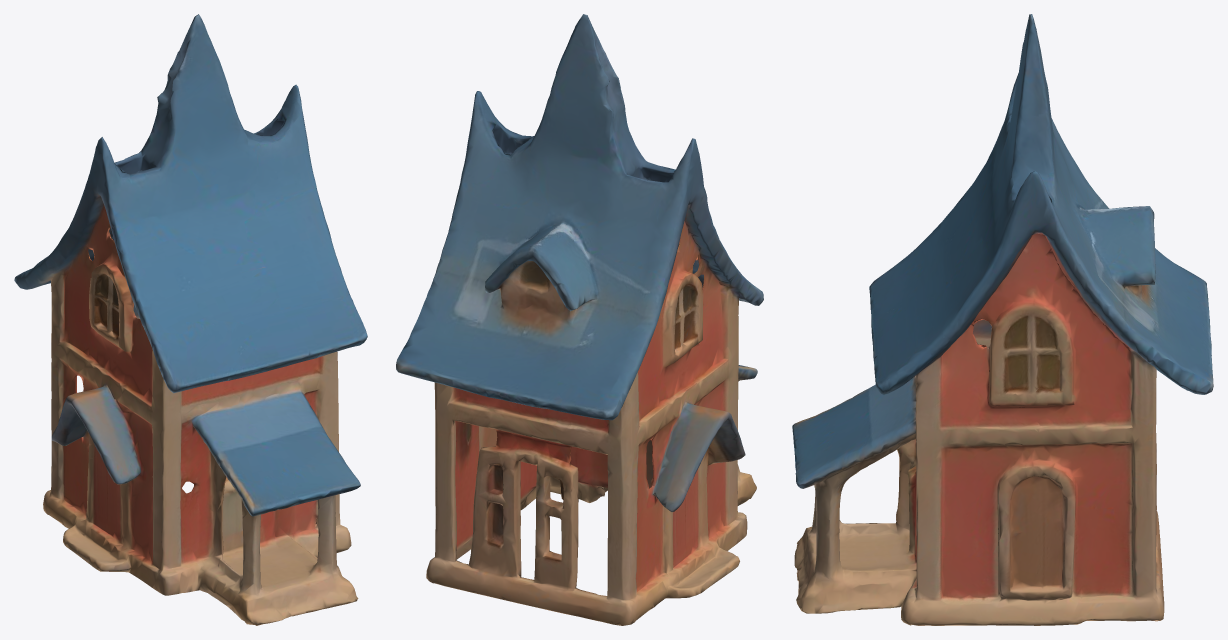
File: AH_ENV_FairyCottage_PinkBlue_phone.glb
3 views of the same model, side by side, from view 1: azimuth 30°, elevation 25°; view 2: azimuth 150°, elevation 25°; view 3: azimuth 270°, elevation 25° (orthographic). The views are drawn at different scales.
Visible parts, largest first — view 1: tripo_node_dce6183b-f153-445d-a719-e4813754802a; view 2: tripo_node_dce6183b-f153-445d-a719-e4813754802a; view 3: tripo_node_dce6183b-f153-445d-a719-e4813754802a.
Boxes of the visible parts, x1=… form: tripo_node_dce6183b-f153-445d-a719-e4813754802a: x1=14, y1=14, x2=367, y2=625; tripo_node_dce6183b-f153-445d-a719-e4813754802a: x1=396, y1=14, x2=763, y2=625; tripo_node_dce6183b-f153-445d-a719-e4813754802a: x1=792, y1=14, x2=1213, y2=625.
Size of the model in its own units: 0.4334 by 0.923 by 0.6185.
Materials: 1 (1 with a texture image).
